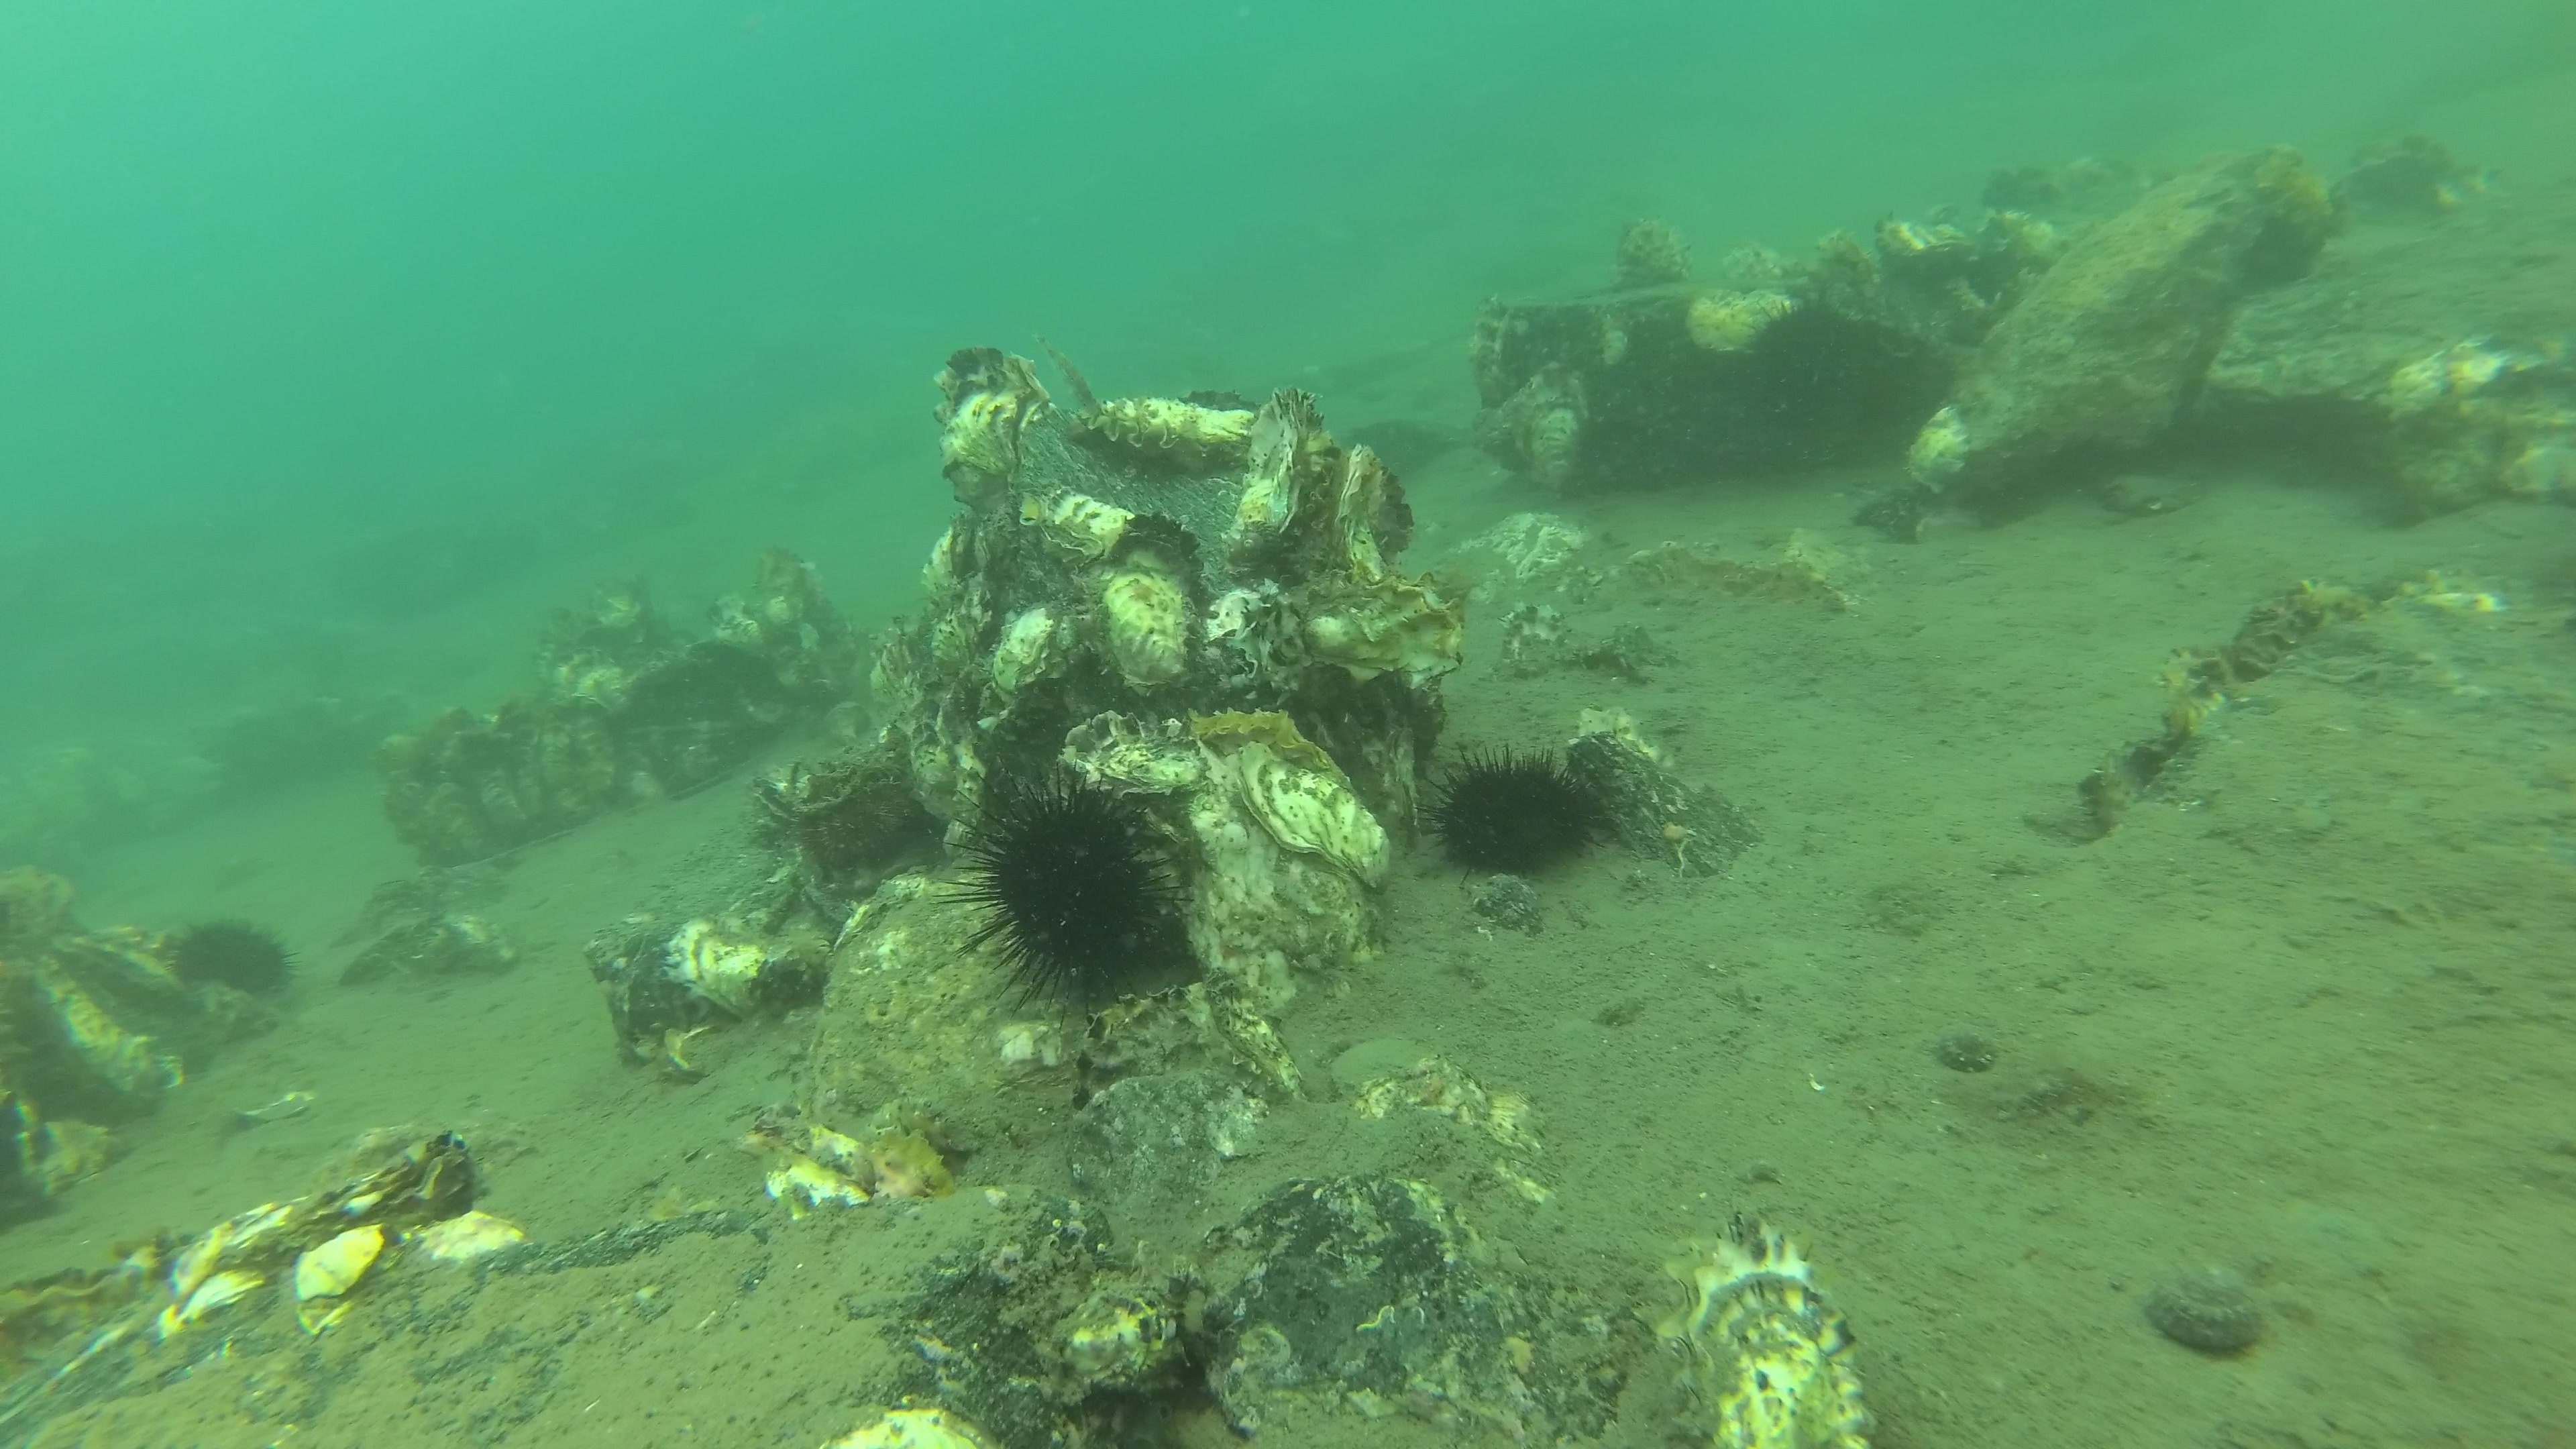echinus: (932, 750, 1200, 1031), (1414, 738, 1617, 888), (1739, 294, 1886, 409), (159, 916, 306, 996), (803, 791, 911, 878), (952, 683, 985, 722)
